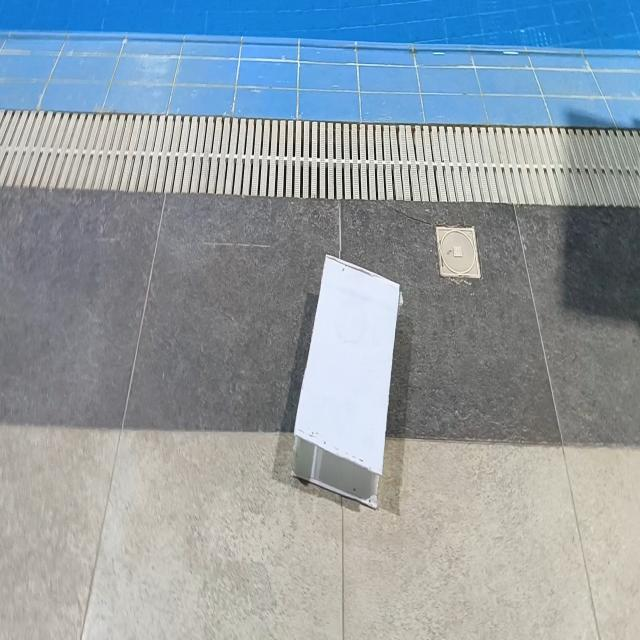Cuboid: (292, 251, 402, 509)
